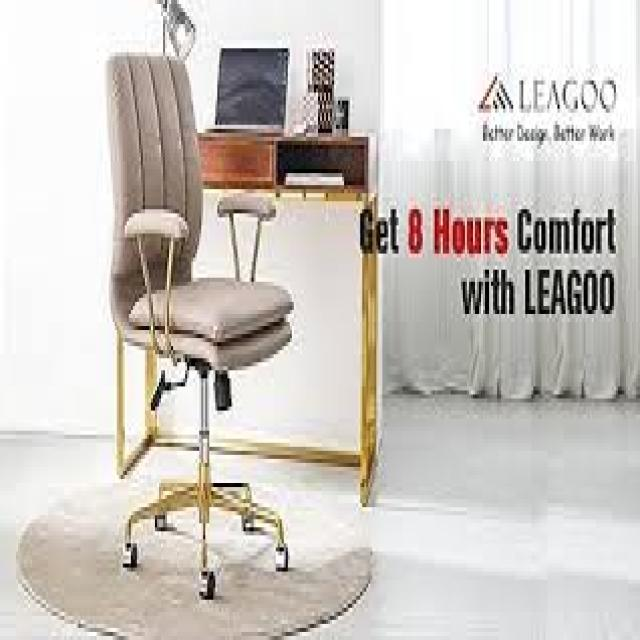chair: (67, 19, 310, 625)
